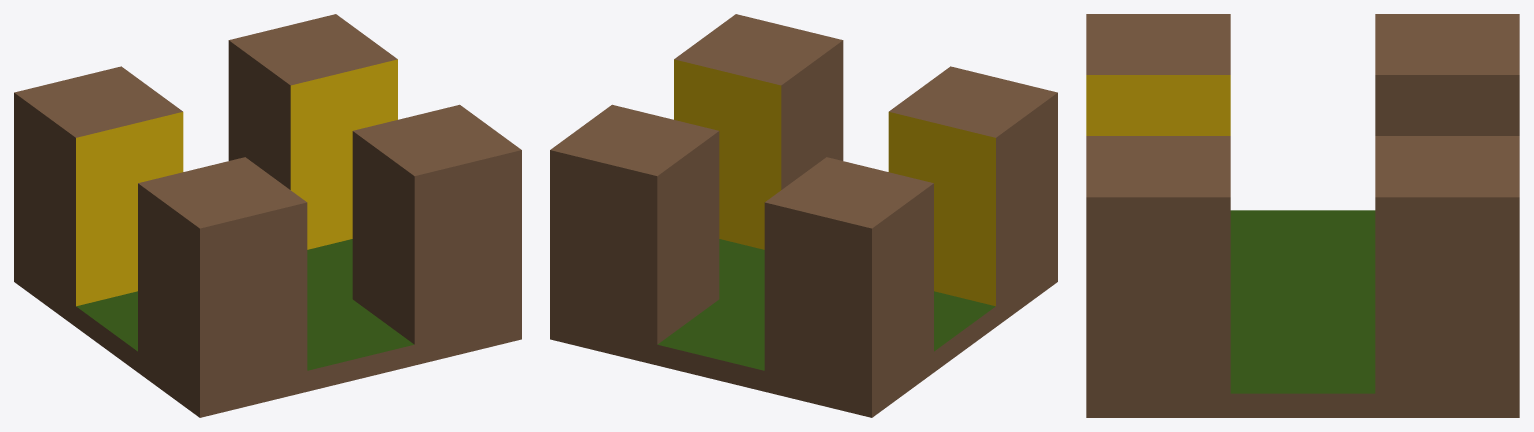
The picture shows the model from 3 angles, left to right: view 1: azimuth 30°, elevation 25°; view 2: azimuth 150°, elevation 25°; view 3: azimuth 270°, elevation 25°; orthographic projection. The views are drawn at different scales.
Visible parts, largest first — view 1: X; view 2: X; view 3: X.
Boxes of the visible parts, x1,y1,x2,y2 form: X: (14, 14, 521, 417); X: (550, 14, 1057, 417); X: (1086, 14, 1519, 417).
Size of the model in its own units: 2 by 1.12 by 2.
Materials: 1 (1 with a texture image).
